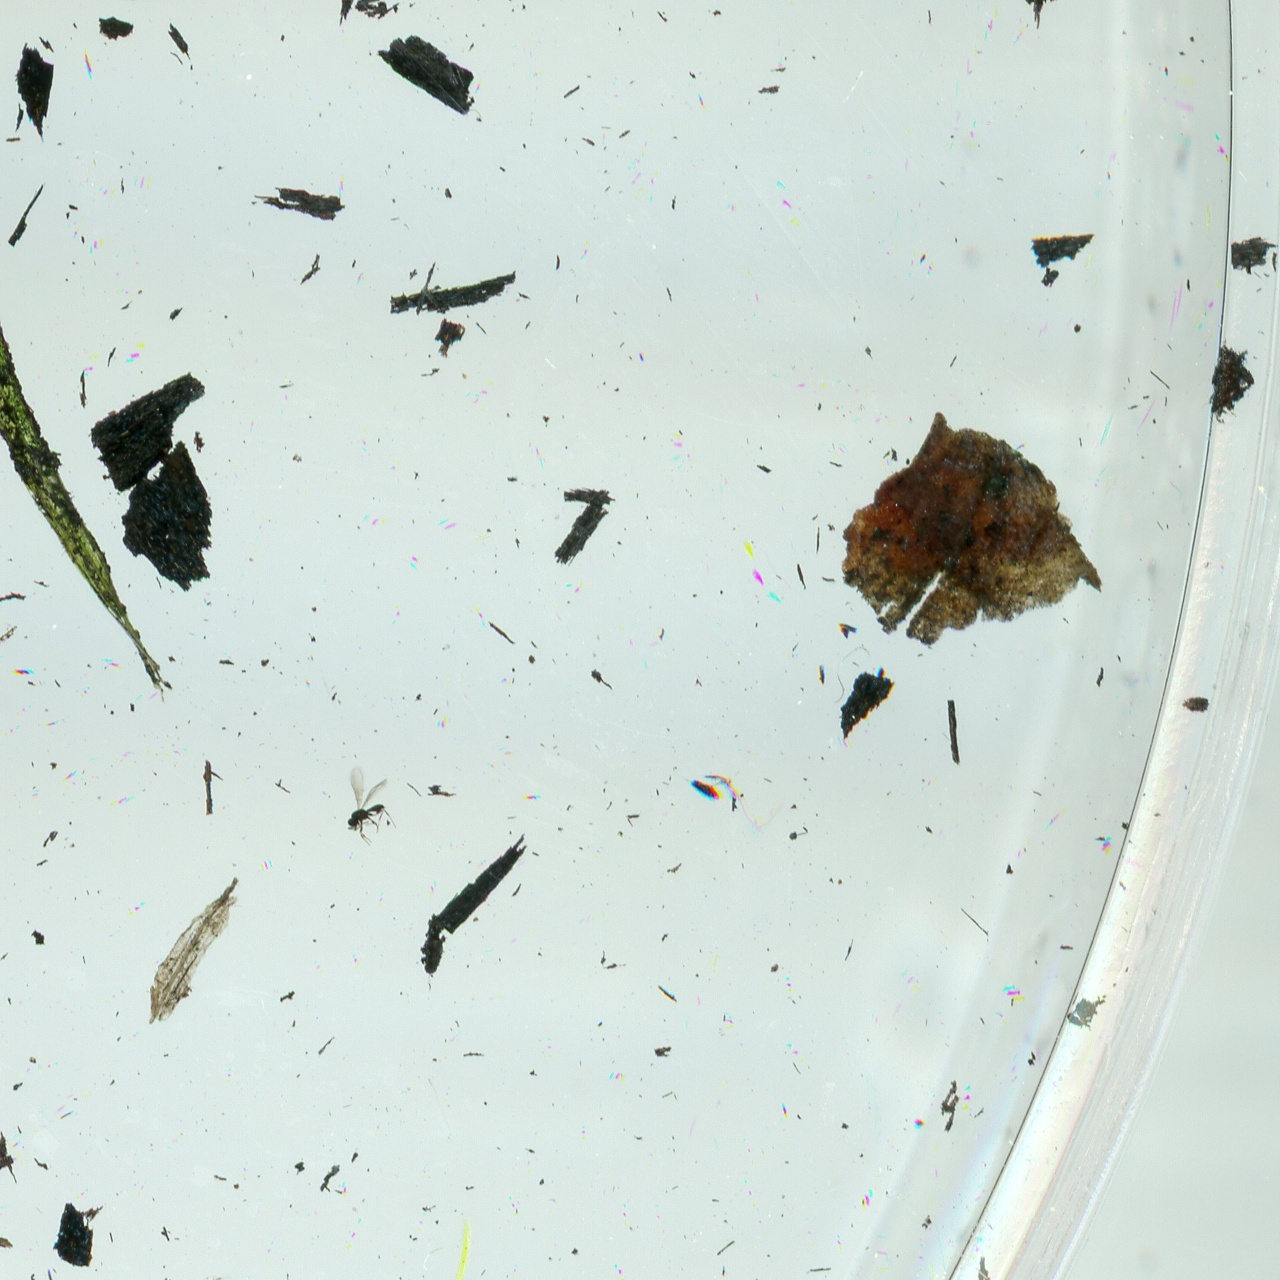arthropod: (346, 763, 398, 849), (8, 1258, 88, 1280)
